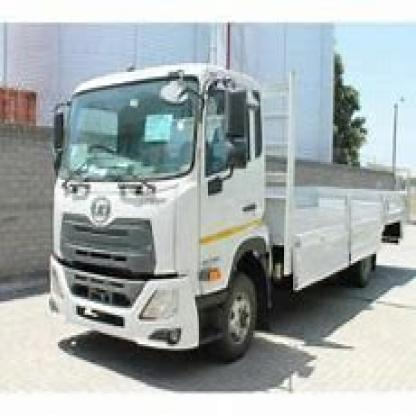dump_truck: (36, 50, 414, 364)
